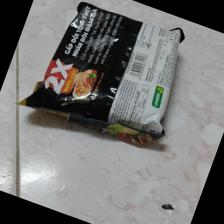3mien: (17, 1, 187, 150)
